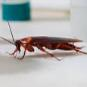cockroach: (11, 35, 83, 55)
